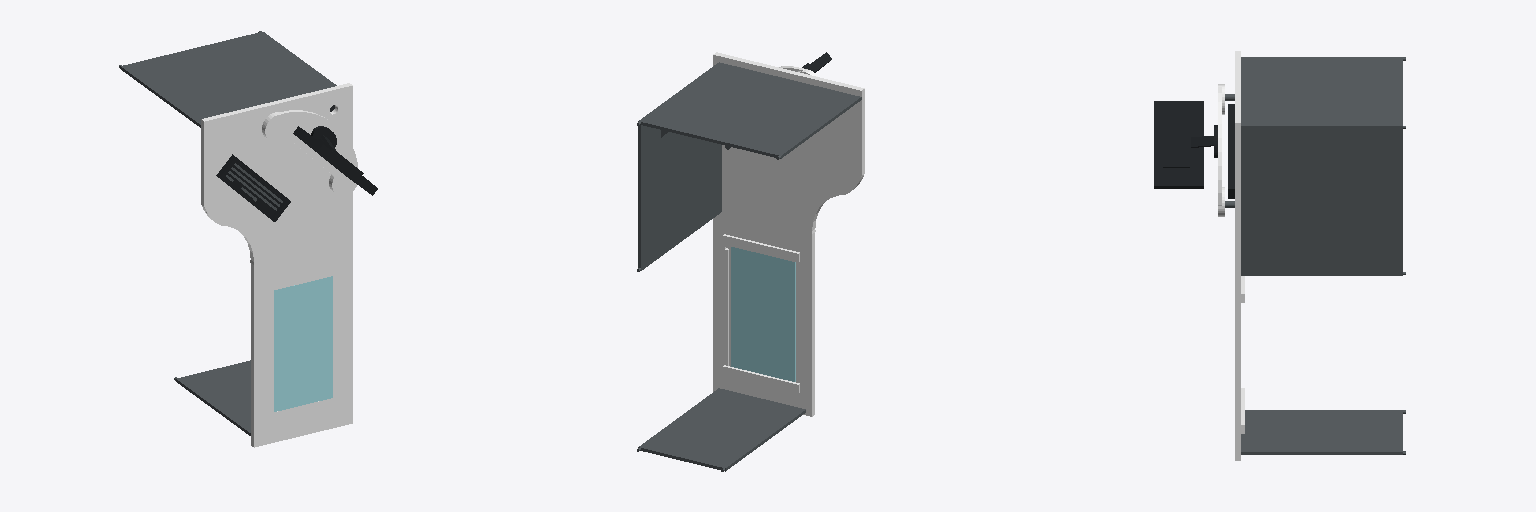
The model's file is tinker.obj.
3 views of the same model, side by side, from view 1: azimuth 30°, elevation 25°; view 2: azimuth 150°, elevation 25°; view 3: azimuth 270°, elevation 25° (orthographic).
Parts seen in each view (by area): view 1: obj_0; view 2: obj_0; view 3: obj_0.
Part boxes in pixels (x1,y1,x2,y2): obj_0: (119, 31, 377, 447); obj_0: (637, 52, 864, 471); obj_0: (1154, 51, 1405, 460).
Bounding box in the file's own units: 51 × 111 × 75.